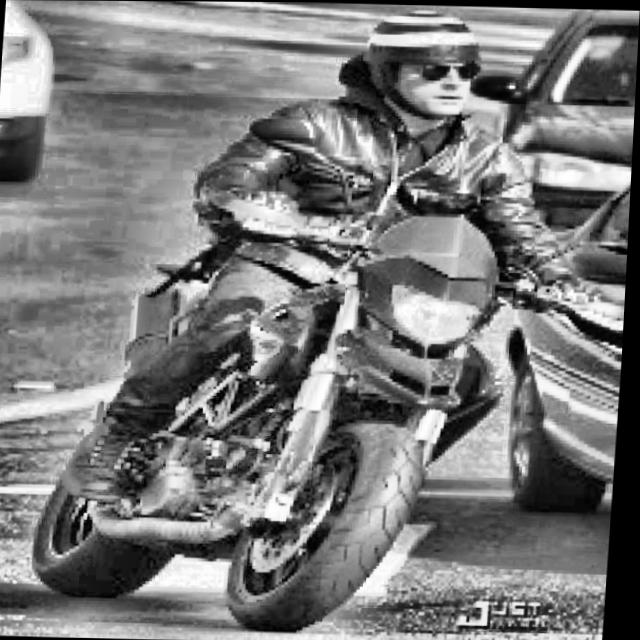motorcycle: (9, 108, 636, 633)
